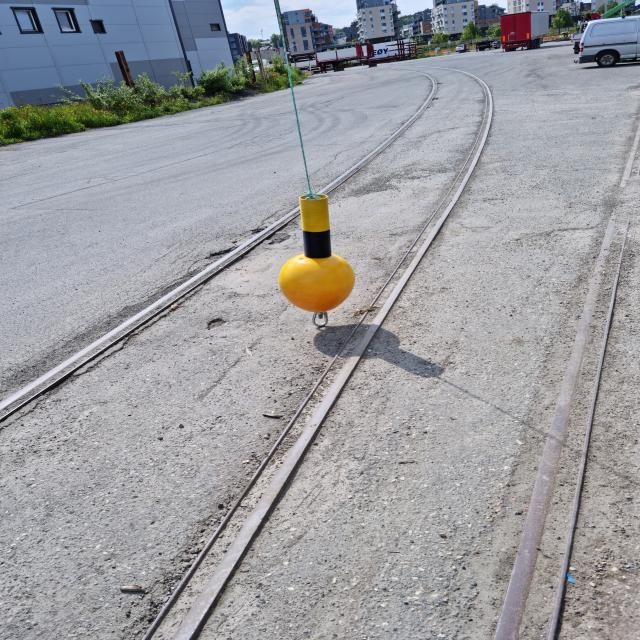west: (278, 195, 354, 312)
